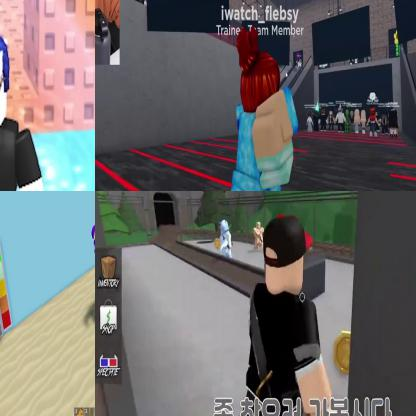Roblox-Avatar: (218, 213, 337, 416), (210, 26, 301, 191), (1, 15, 52, 191), (220, 220, 233, 260), (368, 108, 383, 139), (336, 105, 348, 134), (389, 110, 401, 139), (254, 223, 265, 254), (327, 110, 337, 134), (320, 109, 329, 132), (307, 110, 315, 134), (345, 110, 352, 135), (355, 110, 362, 134), (362, 110, 368, 135)
